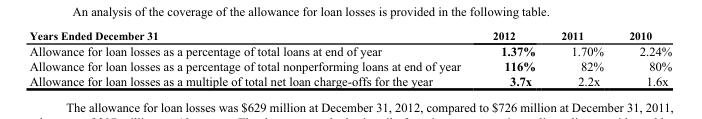table: (28, 28, 671, 87)
table column: (28, 28, 475, 87), (475, 28, 547, 87), (547, 28, 615, 87), (615, 28, 671, 87)
table column header: (28, 28, 671, 42)
table row: (28, 42, 671, 58), (28, 58, 671, 73), (28, 28, 671, 42), (28, 73, 671, 87)
